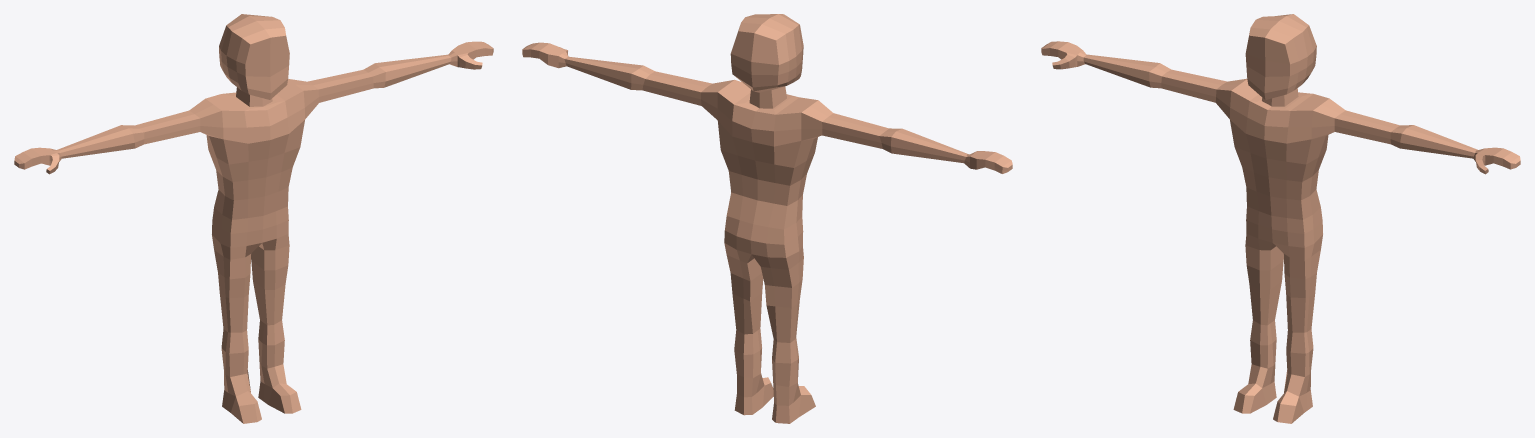
The model's file is StandartCharacter.fbx.
3 renders of one model, left to right at view 1: azimuth 30°, elevation 25°; view 2: azimuth 150°, elevation 25°; view 3: azimuth 330°, elevation 25°, orthographic. The views are drawn at different scales.
Visible parts, largest first — view 1: Character; view 2: Character; view 3: Character.
Part boxes in pixels (x1,y1,x2,y2): Character: (14,14,493,423); Character: (522,14,1012,423); Character: (1041,14,1520,423).
Bounding box in the file's own units: 1571 × 1216 × 216.
